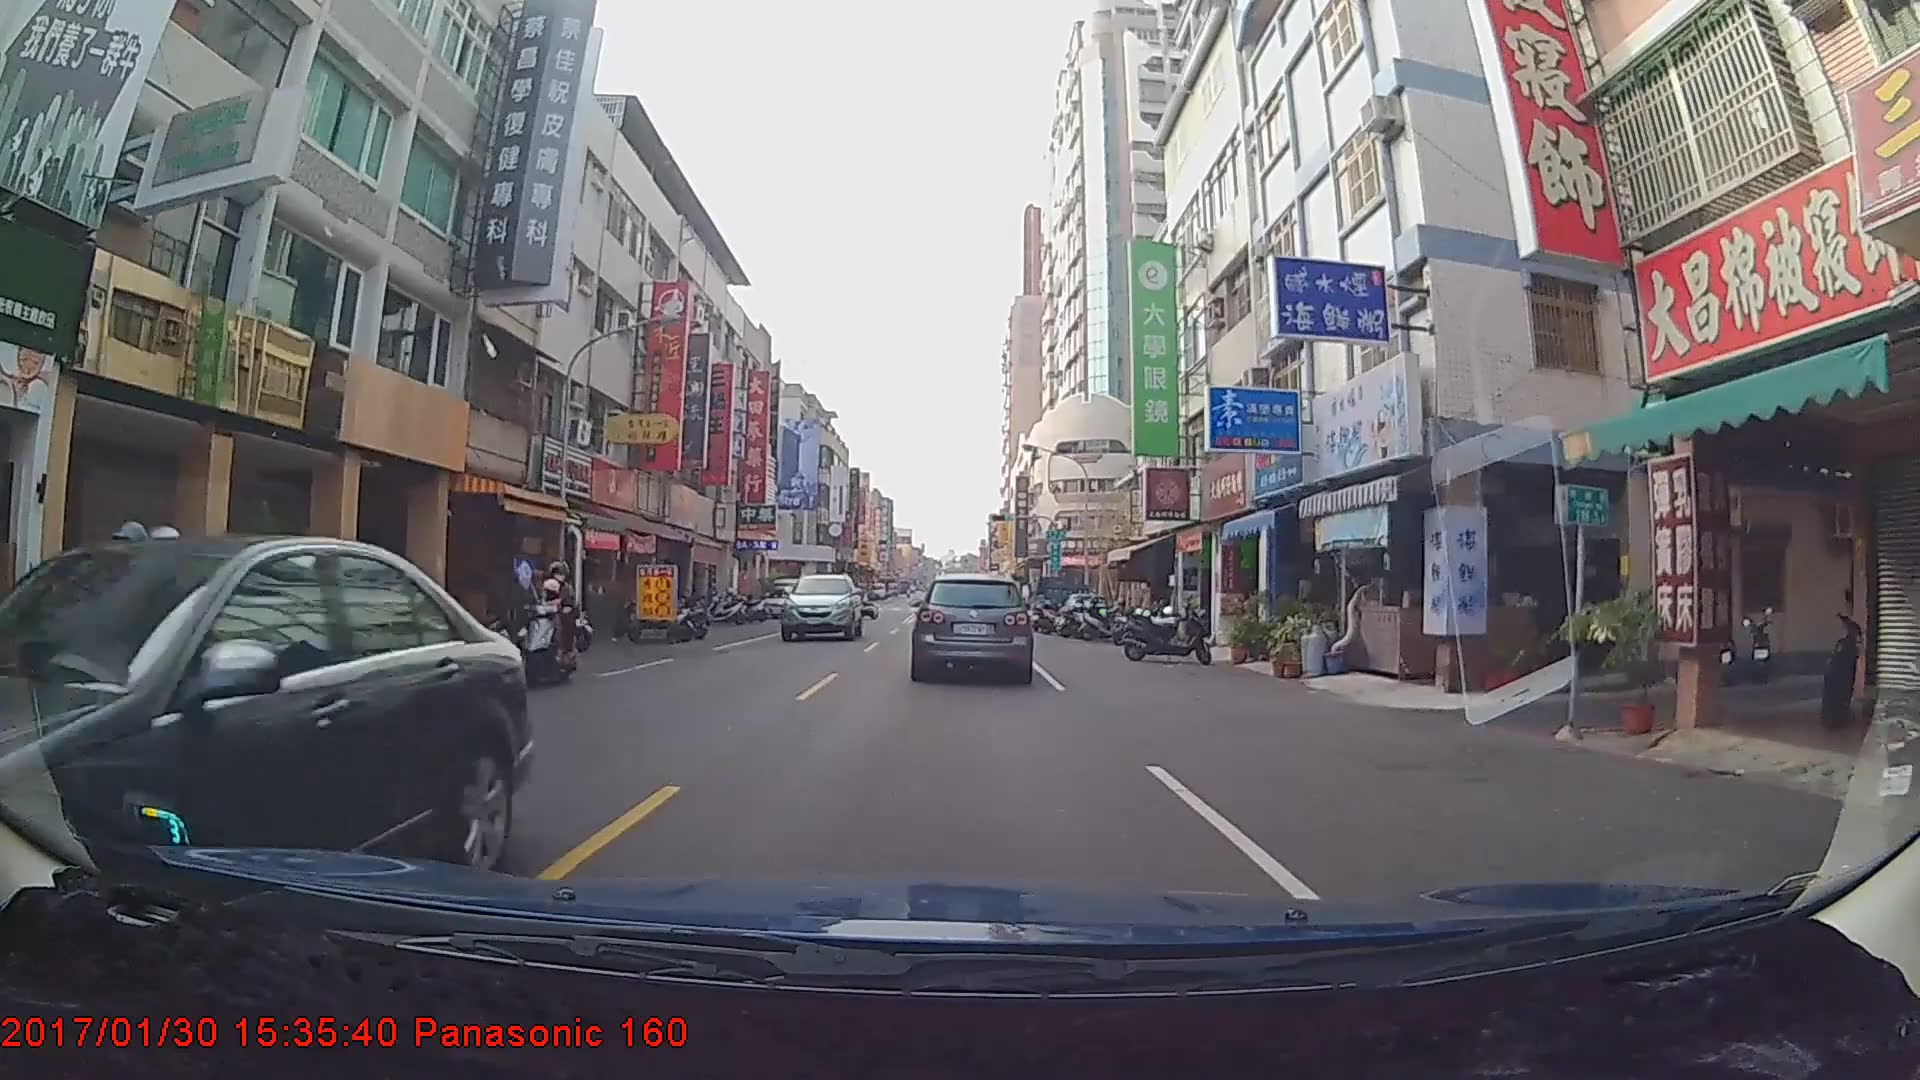vehicle: (0, 531, 526, 940), (913, 574, 1031, 680), (781, 574, 862, 640), (1025, 574, 1087, 626)
